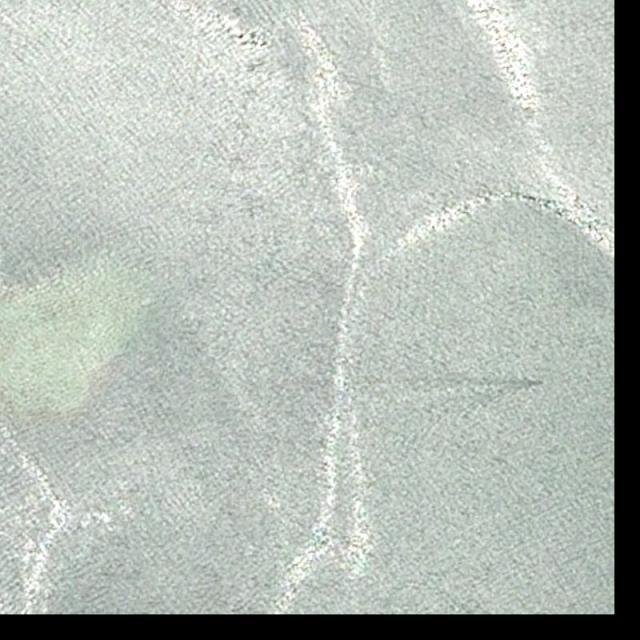ship: (535, 377, 546, 386)
